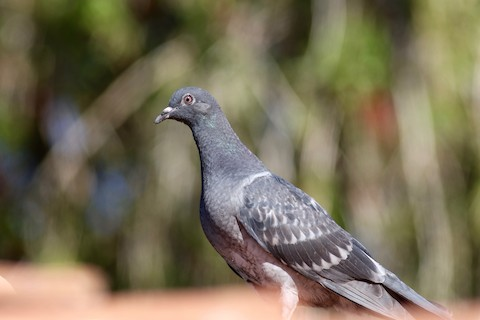pigeon: (148, 75, 450, 305)
